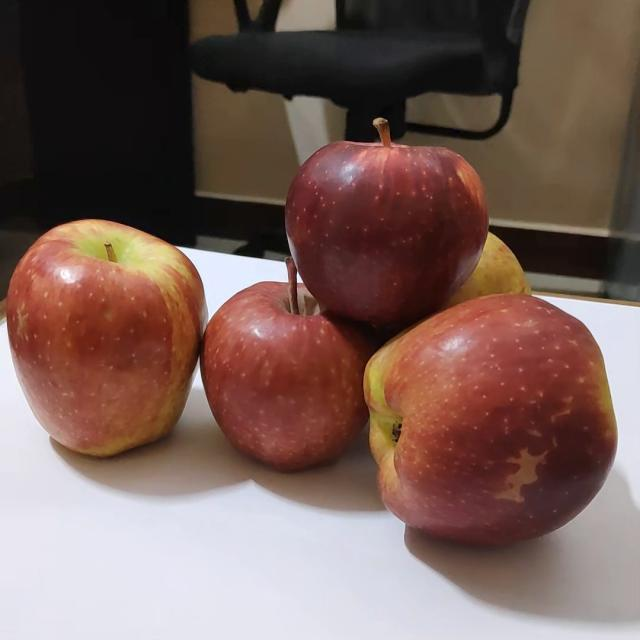apple: (353, 290, 623, 554), (3, 216, 205, 454), (277, 112, 488, 327), (199, 254, 378, 475), (394, 216, 548, 321)
